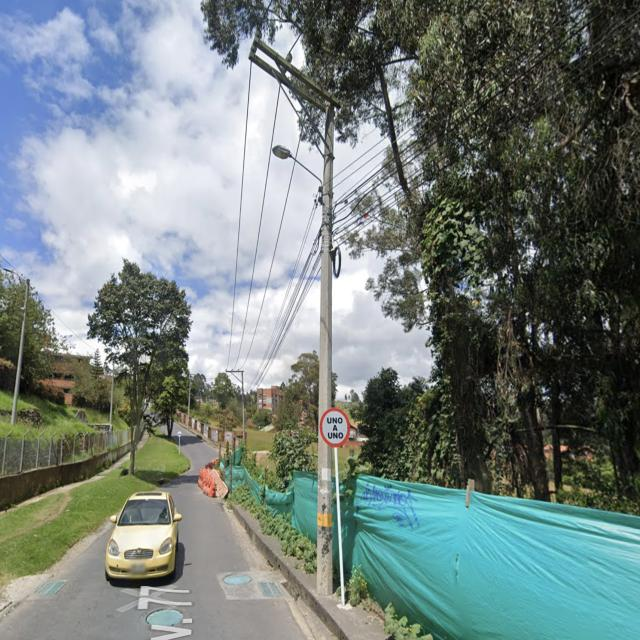Poste: (317, 102, 334, 594), (10, 279, 30, 426), (228, 370, 246, 443)
